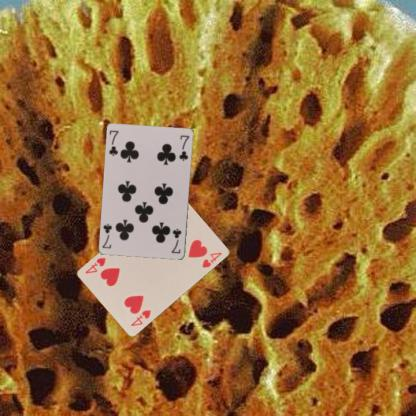4h: (128, 307, 152, 327)
7c: (106, 128, 120, 158), (168, 226, 182, 255)
